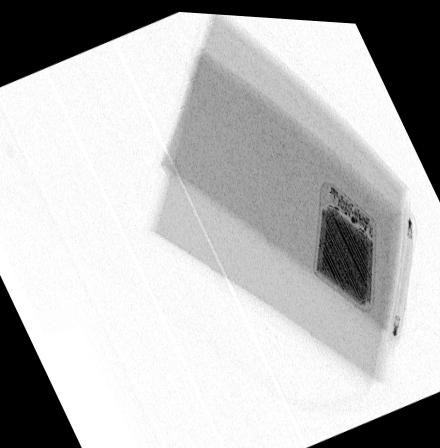Powerbank: (313, 177, 376, 306)
